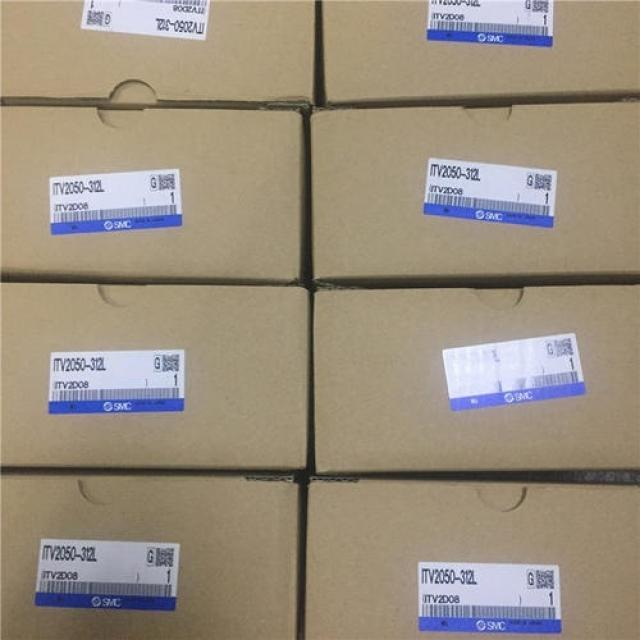box: (310, 284, 639, 480), (309, 91, 639, 286), (0, 282, 312, 471), (0, 105, 306, 283), (302, 483, 639, 639), (0, 470, 301, 639), (1, 2, 317, 112), (317, 1, 639, 105)
